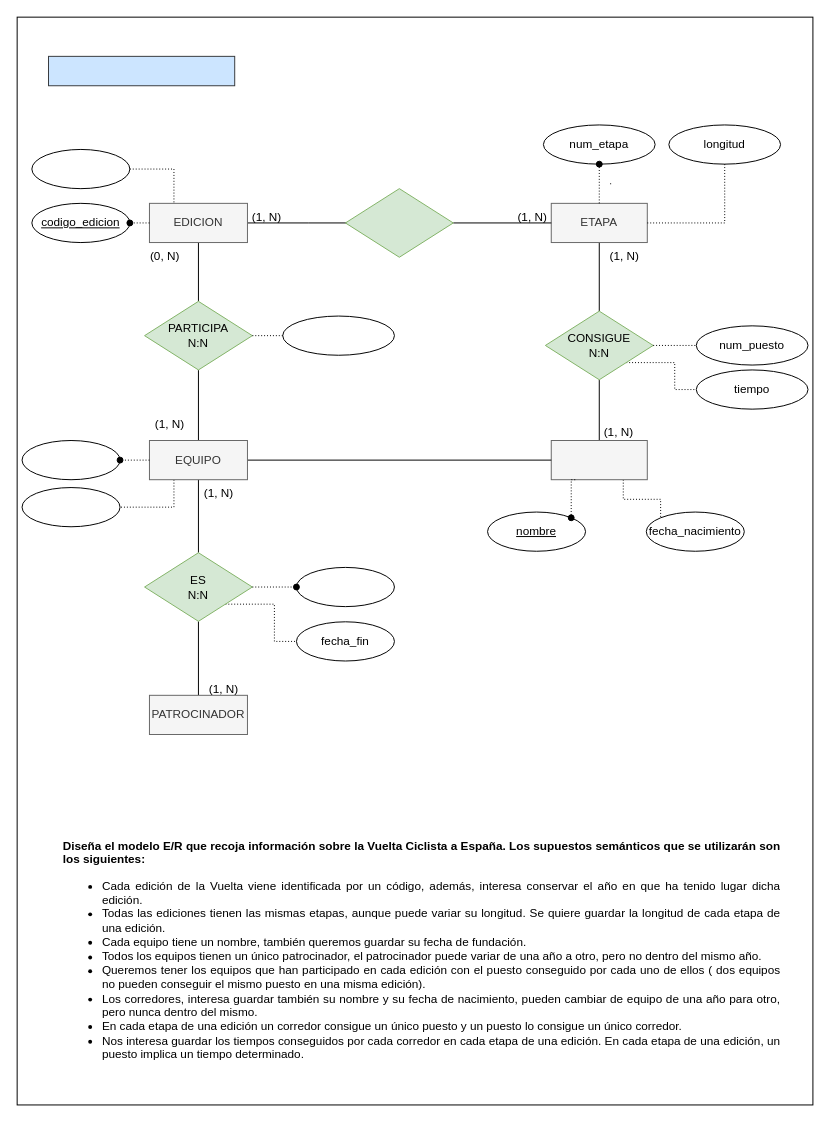
Image size: 830x1122. Some labels were removed from this diagram. Each missing label, with the centre of its shape:
año: point (80, 168)
CORREDOR: point (598, 460)
EJER. 19 - VUELTA CICLISTA: point (141, 70)
fecha_fundacion: point (70, 507)
fecha_inicio: point (344, 586)
nombre_equipo: point (70, 460)
puesto_edicion: point (338, 335)
TIENE 1:N: point (398, 222)
